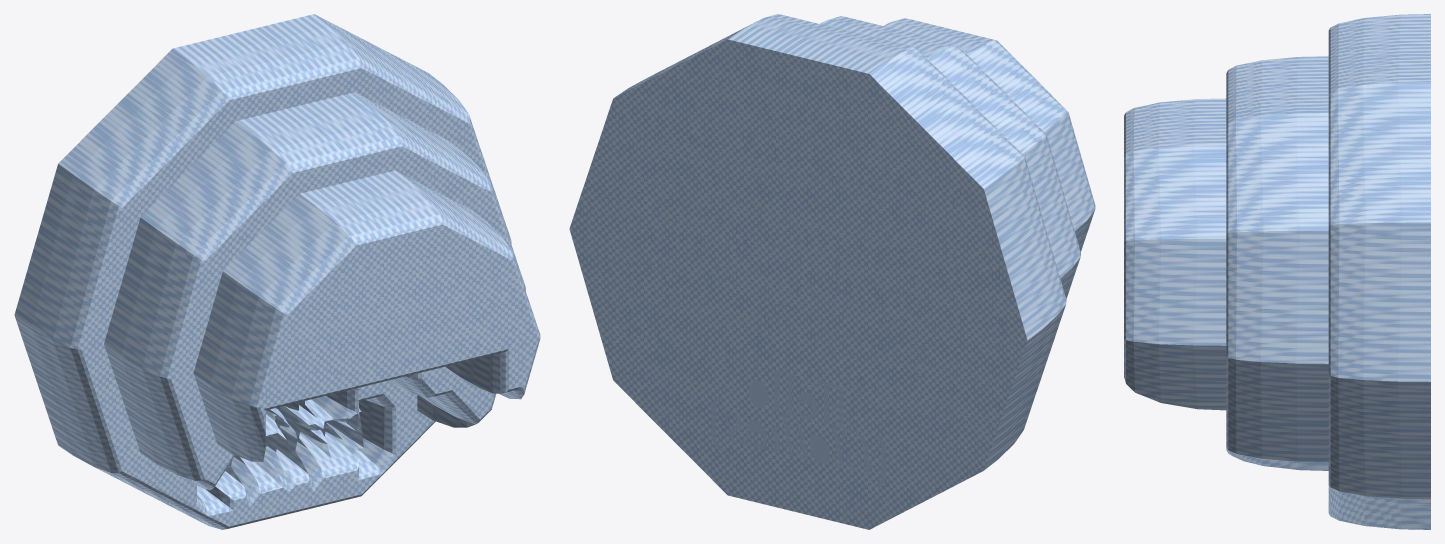
Rendered from clothes 2.gltf.
3 renders of one model, left to right at view 1: azimuth 30°, elevation 25°; view 2: azimuth 150°, elevation 25°; view 3: azimuth 270°, elevation 25°, orthographic.
Parts seen in each view (by area): view 1: Mesh_0.001; view 2: Mesh_0.001; view 3: Mesh_0.001.
Part boxes in pixels (x1=…): Mesh_0.001: x1=14, y1=14, x2=540, y2=529; Mesh_0.001: x1=569, y1=14, x2=1095, y2=529; Mesh_0.001: x1=1124, y1=14, x2=1430, y2=529.
Size of the model in its own units: 0.187 by 0.1779 by 0.1103.
Materials: 1 (1 with a texture image).
